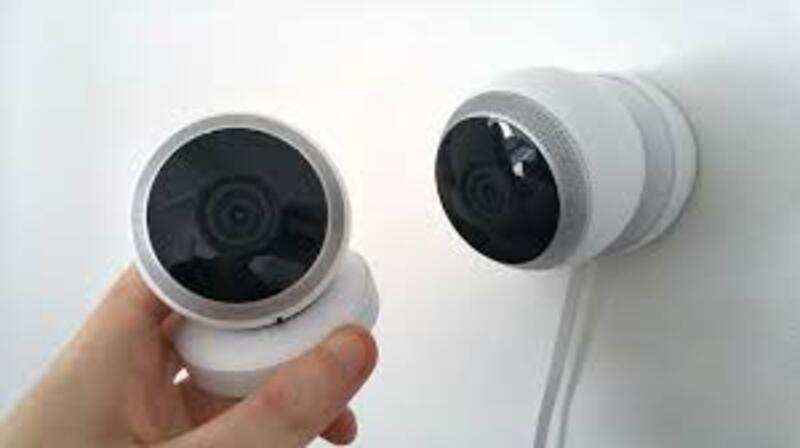turret: (429, 71, 647, 282)
